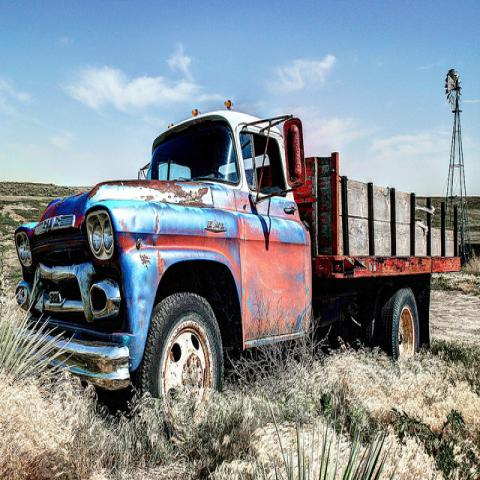truck: (13, 107, 462, 408)
